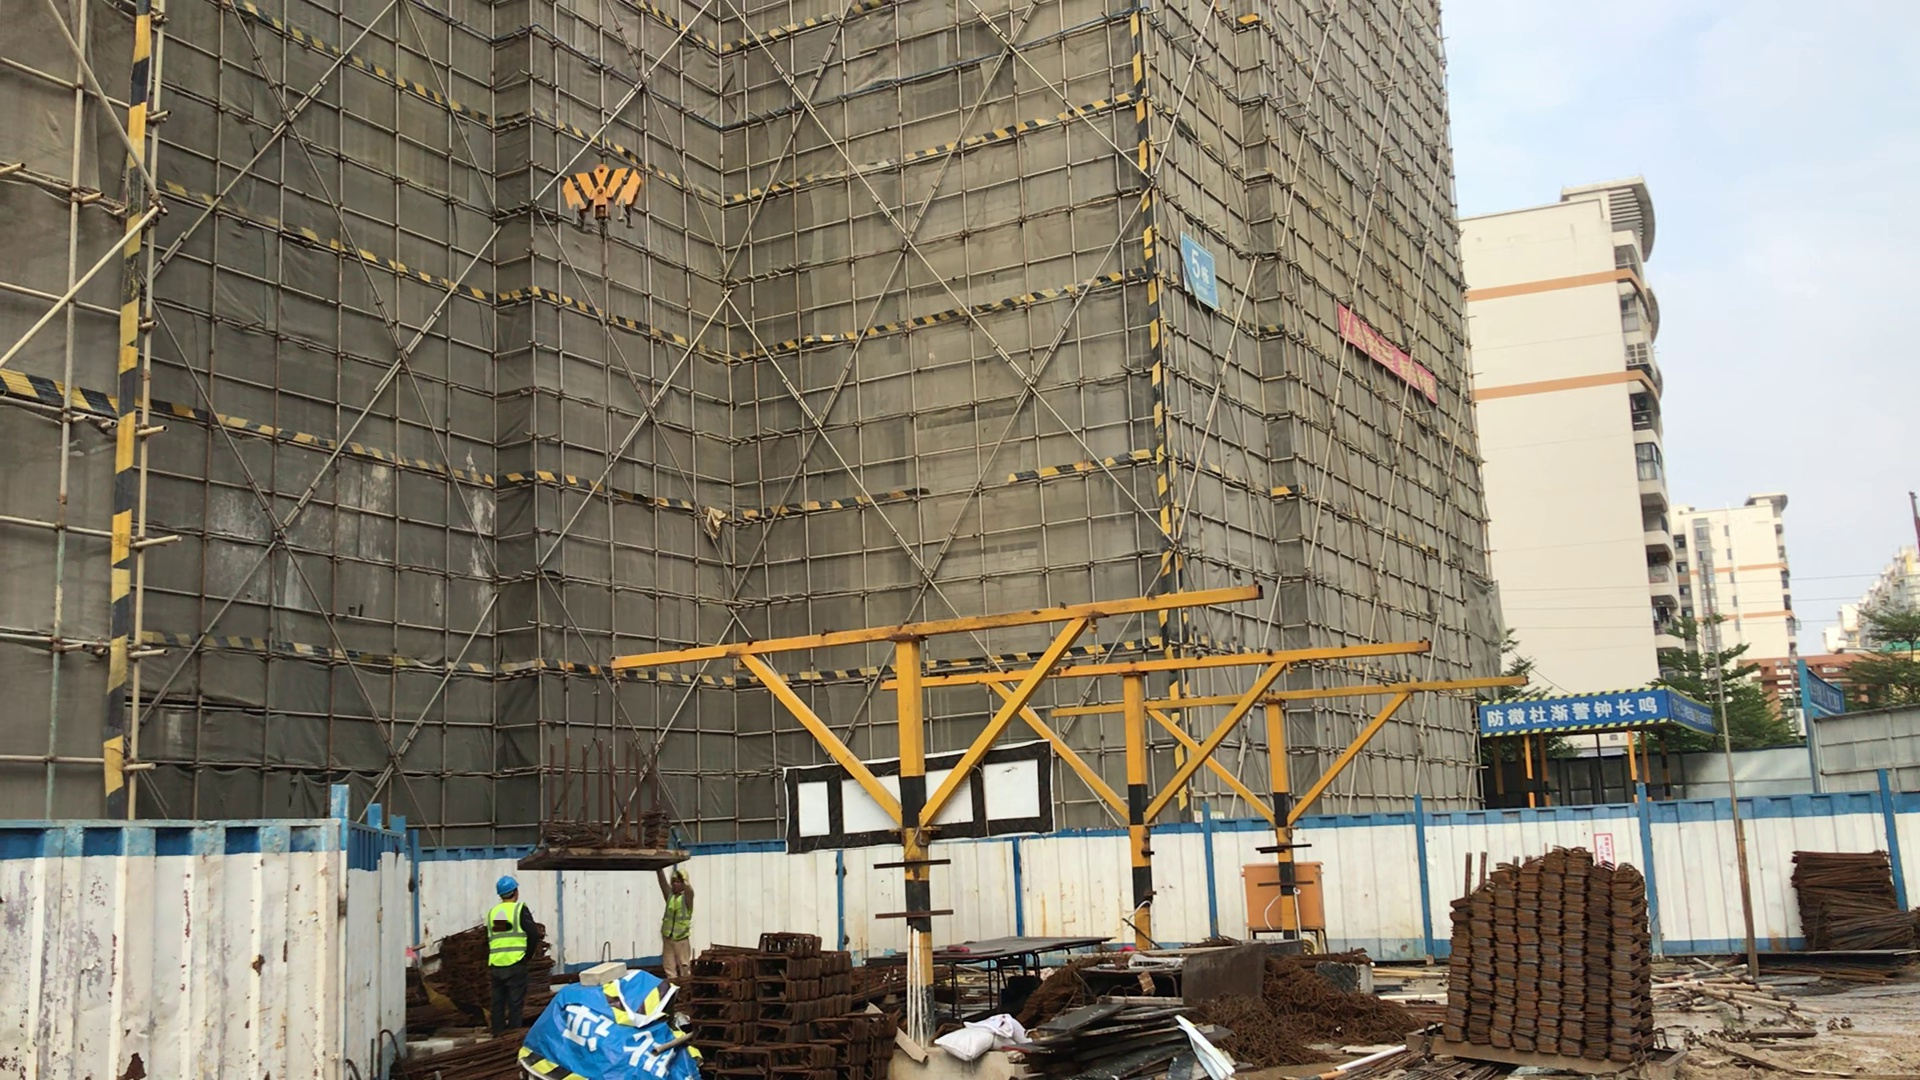ebox: (1235, 860, 1329, 929)
helmet: (493, 877, 524, 894), (670, 868, 692, 883)
hook: (560, 152, 648, 233)
person: (471, 875, 549, 1045), (641, 861, 708, 979)
slogan: (1334, 297, 1441, 405), (1483, 690, 1661, 727)
vest: (484, 904, 526, 961), (661, 892, 690, 936)
